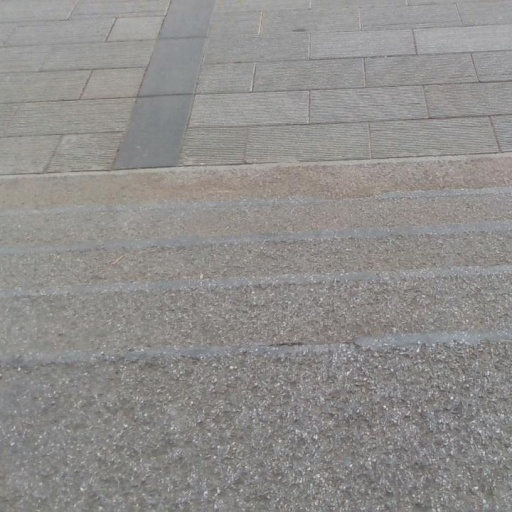Stairs: (0, 161, 512, 512)
